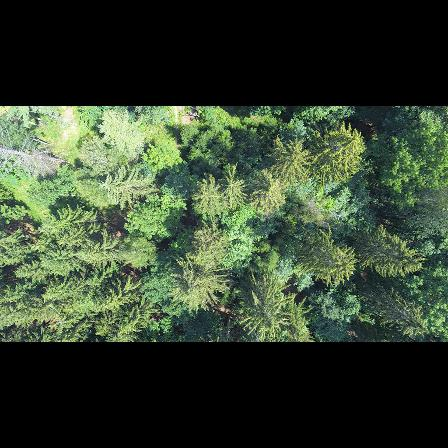Dead: (0, 128, 66, 176)
